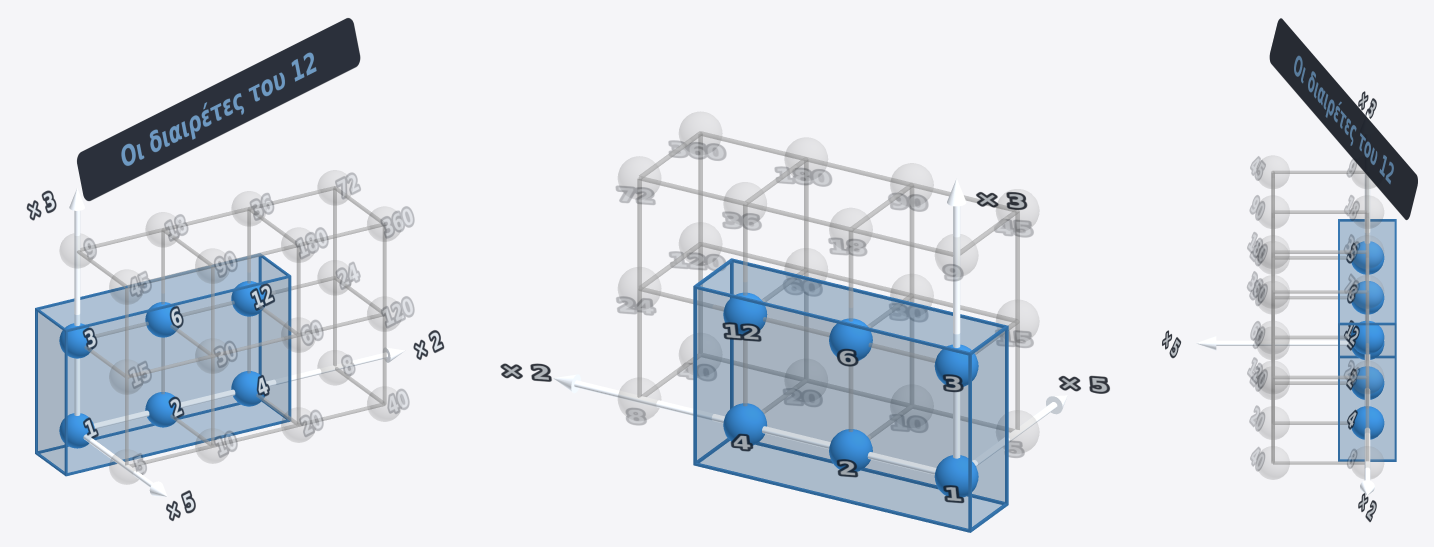
Rendered from kouti-diaireton.glb.
3 views of the same model, side by side, from view 1: azimuth 30°, elevation 25°; view 2: azimuth 150°, elevation 25°; view 3: azimuth 270°, elevation 25° (orthographic). The views are drawn at different scales.
Visible parts, largest first — view 1: k1_kouti_A_gemato, k1_titlos, kannavos, k1_etiketes, k1_akmes_A_gemato, axones, etiketes_axonon, k1_sfaira_4, k1_sfaira_15, k1_sfaira_2, k1_sfaira_45, k1_sfaira_72 (+19 smaller); view 2: k1_kouti_A_gemato, kannavos, k1_etiketes, k1_akmes_A_gemato, axones, etiketes_axonon, k1_sfaira_2, k1_sfaira_4, k1_sfaira_9, k1_sfaira_8, k1_sfaira_72, k1_sfaira_18 (+15 smaller); view 3: k1_kouti_A_gemato, k1_titlos, kannavos, k1_etiketes, axones, k1_akmes_A_gemato, k1_sfaira_72, k1_sfaira_24, k1_sfaira_4, k1_sfaira_40, k1_sfaira_360, etiketes_axonon (+17 smaller).
Boxes of the visible parts, x1=… form: k1_kouti_A_gemato: x1=37, y1=257, x2=288, y2=472; k1_titlos: x1=77, y1=18, x2=360, y2=200; kannavos: x1=77, y1=186, x2=386, y2=467; k1_etiketes: x1=82, y1=173, x2=414, y2=474; k1_akmes_A_gemato: x1=35, y1=253, x2=291, y2=476; axones: x1=69, y1=188, x2=404, y2=496; etiketes_axonon: x1=26, y1=190, x2=443, y2=520; k1_sfaira_4: x1=231, y1=371, x2=264, y2=406; k1_sfaira_15: x1=109, y1=360, x2=143, y2=394; k1_sfaira_2: x1=145, y1=392, x2=180, y2=427; k1_sfaira_45: x1=109, y1=270, x2=143, y2=304; k1_sfaira_72: x1=318, y1=170, x2=351, y2=204; k1_kouti_A_gemato: x1=697, y1=261, x2=1005, y2=528; kannavos: x1=637, y1=131, x2=1019, y2=439; k1_etiketes: x1=616, y1=140, x2=1033, y2=502; k1_akmes_A_gemato: x1=693, y1=258, x2=1008, y2=532; axones: x1=553, y1=178, x2=1067, y2=474; etiketes_axonon: x1=500, y1=192, x2=1109, y2=393; k1_sfaira_2: x1=829, y1=429, x2=872, y2=471; k1_sfaira_4: x1=723, y1=403, x2=767, y2=445; k1_sfaira_9: x1=935, y1=234, x2=977, y2=276; k1_sfaira_8: x1=618, y1=378, x2=660, y2=420; k1_sfaira_72: x1=618, y1=156, x2=660, y2=199; k1_sfaira_18: x1=829, y1=208, x2=872, y2=250; k1_kouti_A_gemato: x1=1340, y1=221, x2=1394, y2=459; k1_titlos: x1=1269, y1=18, x2=1417, y2=219; kannavos: x1=1271, y1=170, x2=1369, y2=464; k1_etiketes: x1=1247, y1=156, x2=1359, y2=470; axones: x1=1196, y1=113, x2=1374, y2=495; k1_akmes_A_gemato: x1=1338, y1=219, x2=1396, y2=461; k1_sfaira_72: x1=1351, y1=275, x2=1383, y2=308; k1_sfaira_24: x1=1351, y1=361, x2=1383, y2=393; k1_sfaira_4: x1=1351, y1=406, x2=1384, y2=439; k1_sfaira_40: x1=1257, y1=447, x2=1289, y2=479; k1_sfaira_360: x1=1257, y1=275, x2=1289, y2=308; etiketes_axonon: x1=1162, y1=91, x2=1376, y2=521.
Size of what is drawn, in the model's own units: 0.3215 by 0.2416 by 0.1747.
8 materials, 2 textured.
